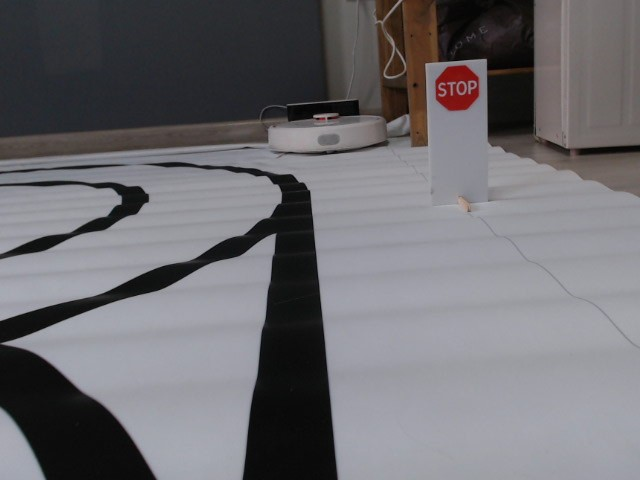Stop: (435, 65, 479, 112)
